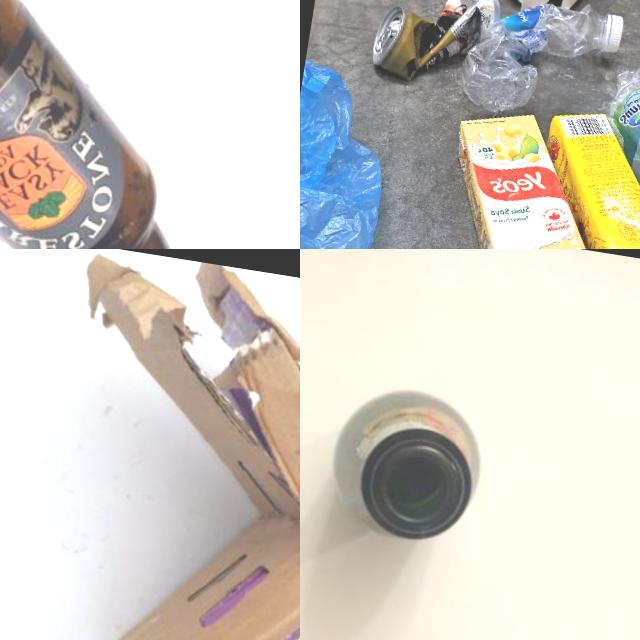aba de lata: (370, 12, 400, 58)
caixinha: (432, 105, 614, 249), (522, 105, 640, 249)
garrafa de vidro: (0, 0, 261, 249), (321, 378, 488, 549)
garrafa plástica: (458, 0, 625, 123), (589, 58, 640, 240)
lata: (368, 0, 502, 92)
papelão: (14, 249, 300, 640)
sacola plástica: (300, 57, 401, 249)
tampa plástica: (599, 11, 624, 56)
